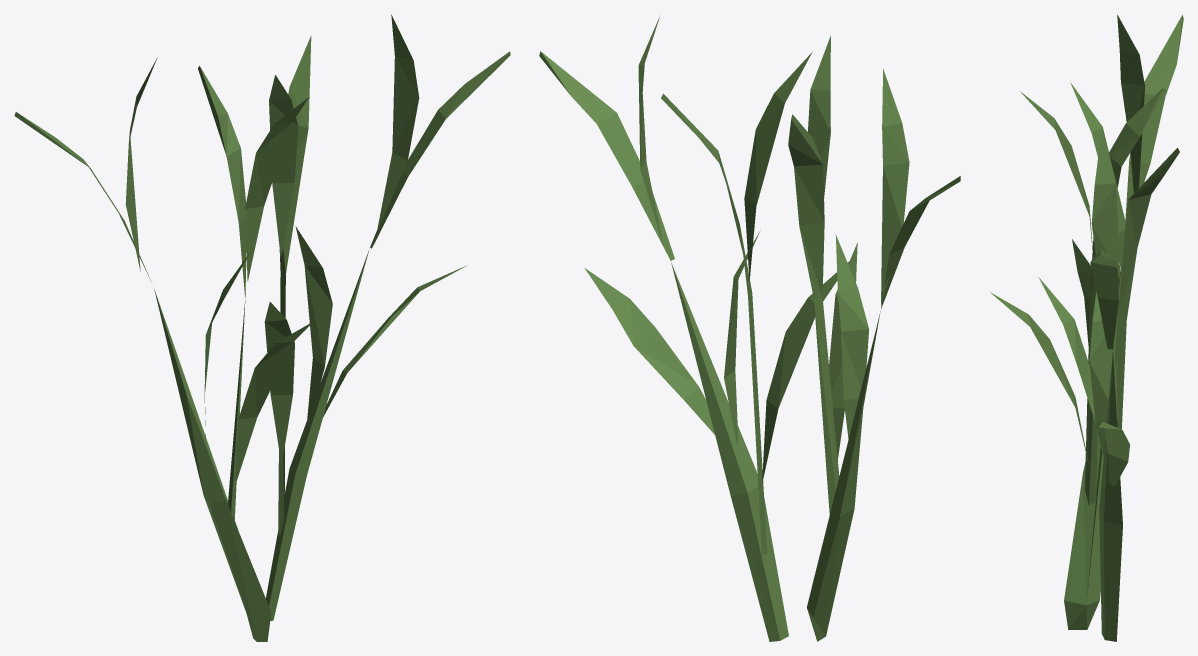
File: plant_rice_1.glb
3 views of the same model, side by side, from view 1: azimuth 30°, elevation 25°; view 2: azimuth 150°, elevation 25°; view 3: azimuth 270°, elevation 25° (orthographic). The views are drawn at different scales.
Parts seen in each view (by area): view 1: plant_rice_1; view 2: plant_rice_1; view 3: plant_rice_1.
Boxes of the visible parts, x1=… form: plant_rice_1: x1=14, y1=14, x2=510, y2=641; plant_rice_1: x1=539, y1=16, x2=960, y2=641; plant_rice_1: x1=990, y1=15, x2=1183, y2=641.
Size of the model in its own units: 0.7238 by 0.9 by 0.2747.
